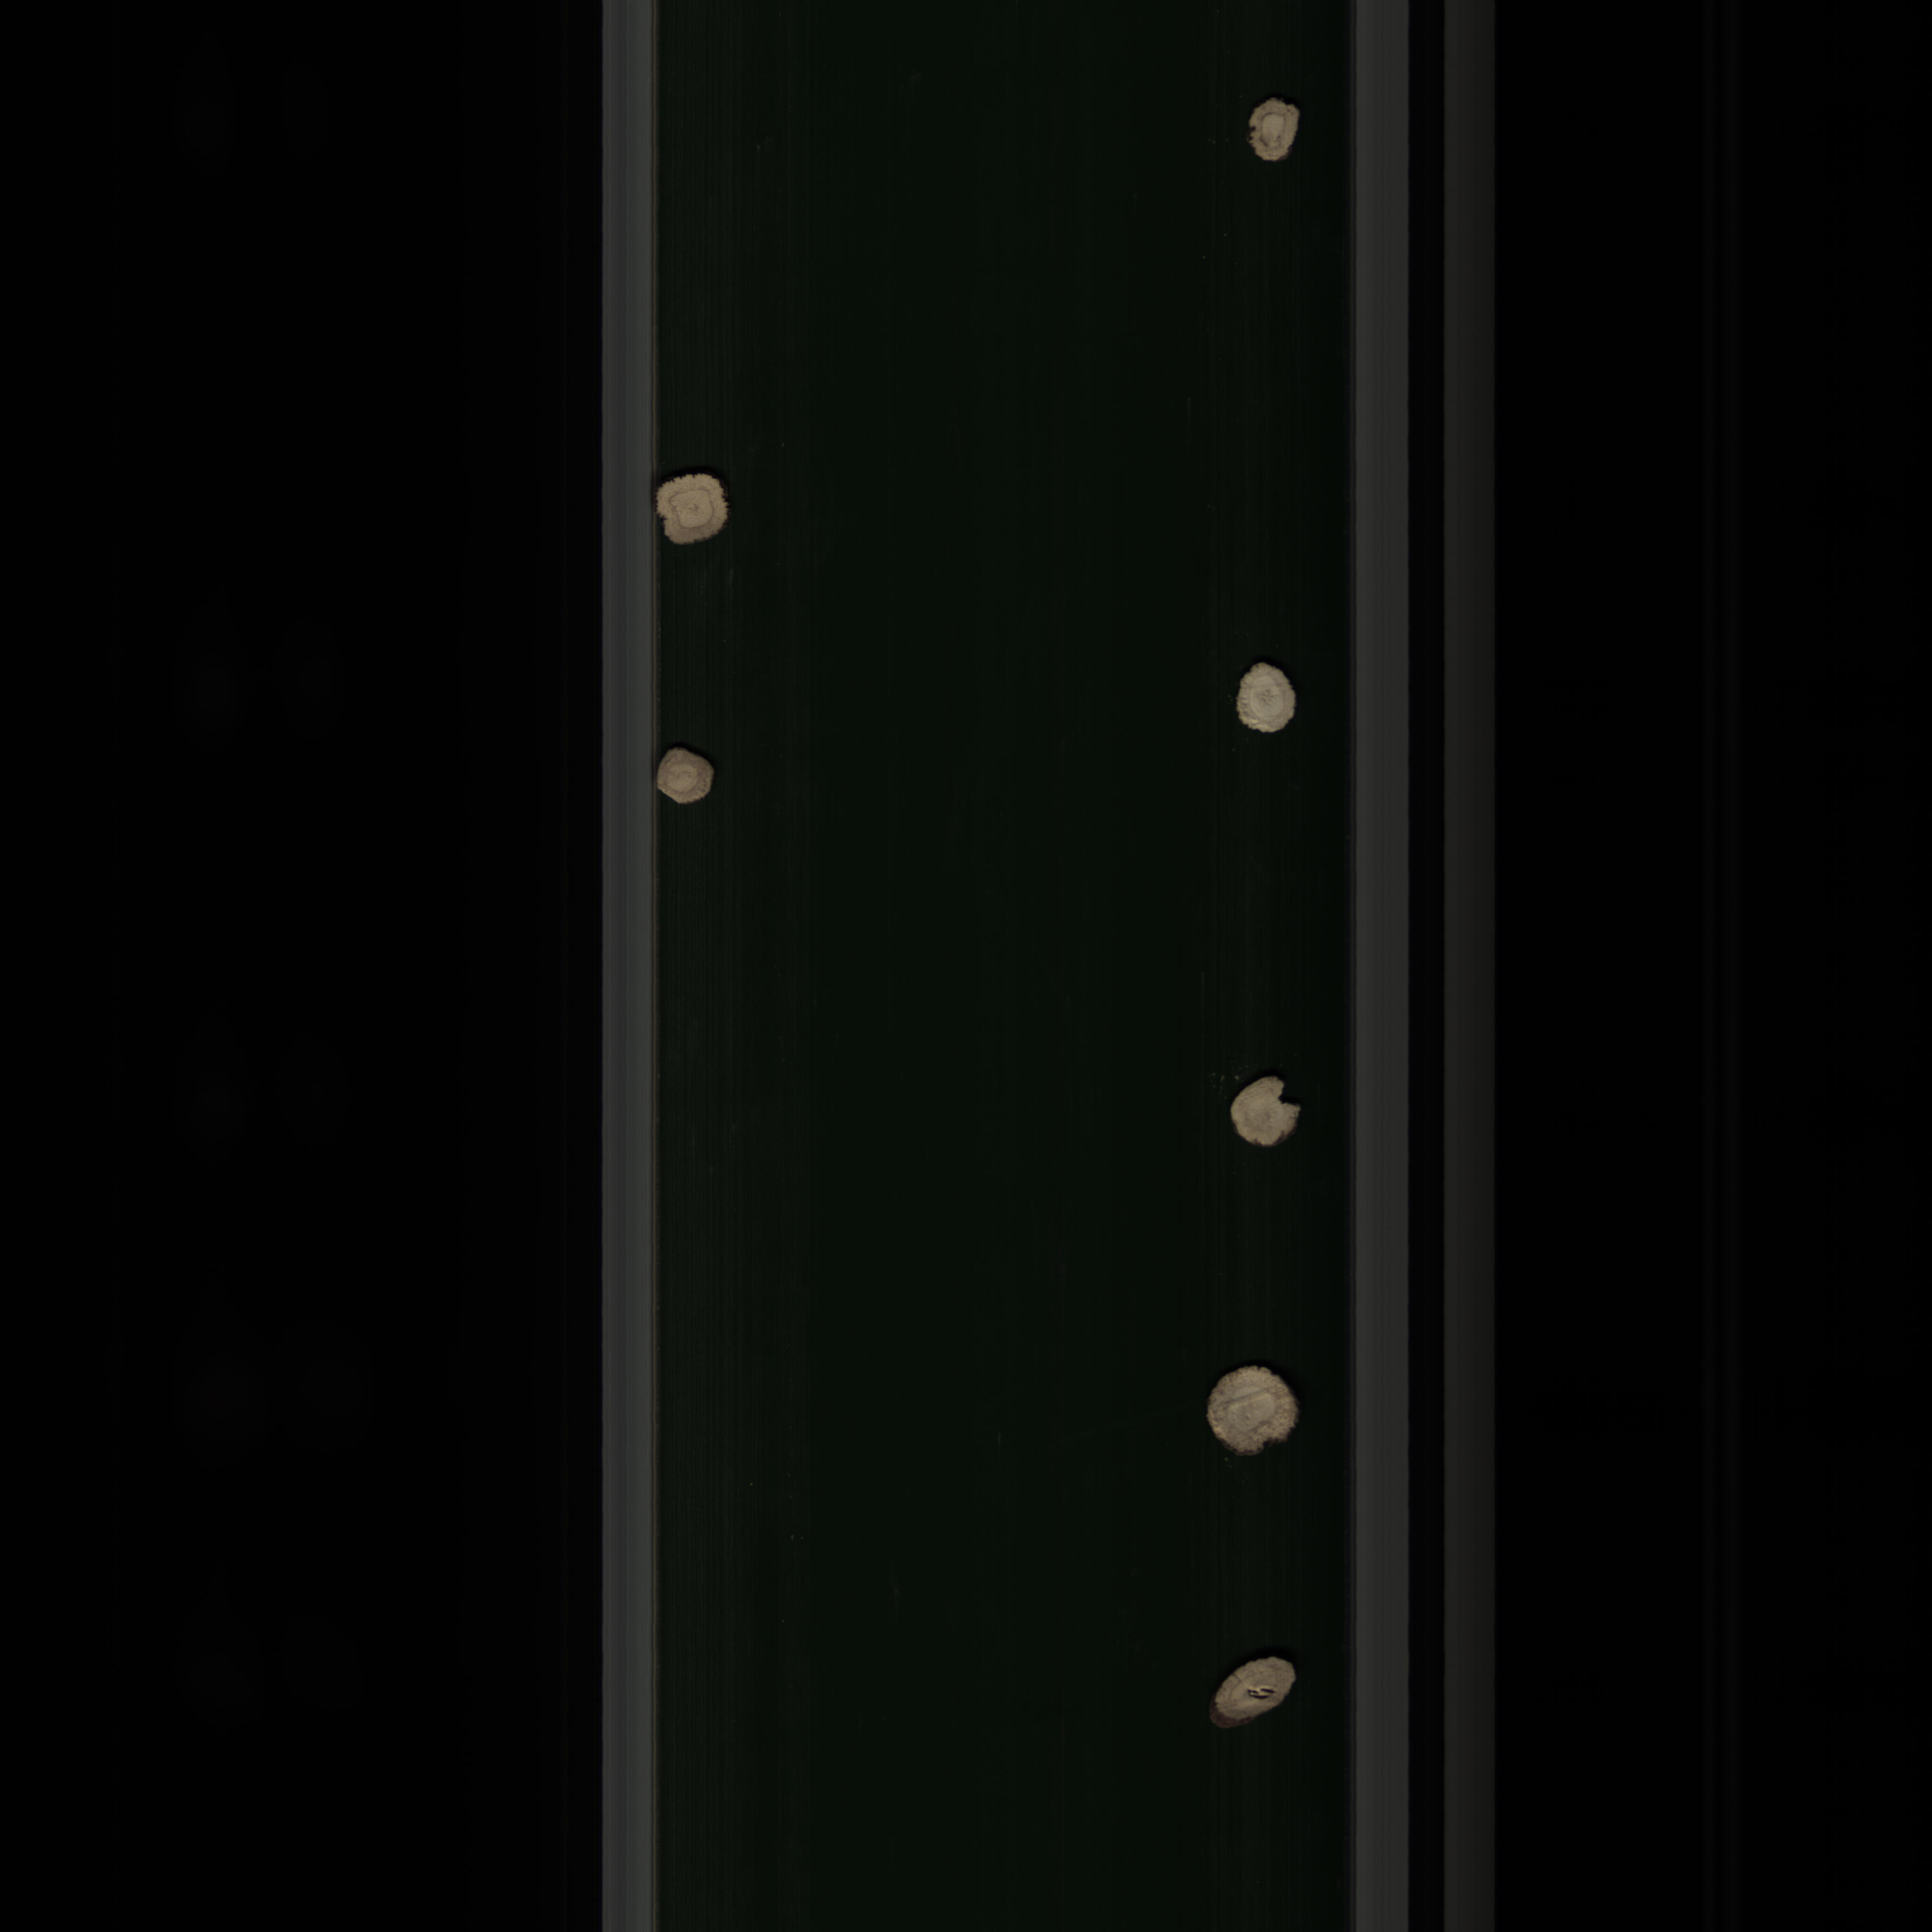debris: (1215, 1070, 1320, 1152)
hole: (1212, 1644, 1304, 1748)
moldy: (1238, 96, 1307, 166)
